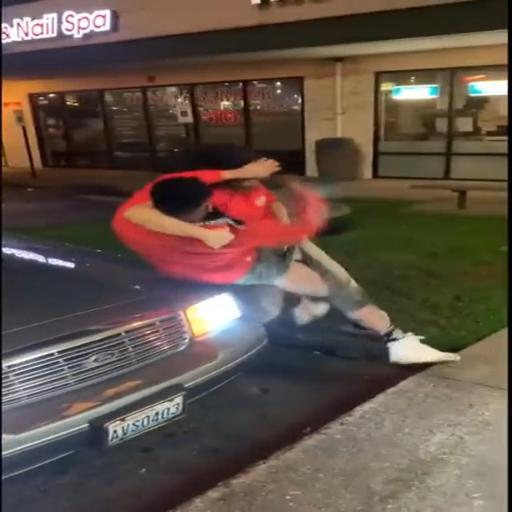violencia: (88, 150, 469, 374)
